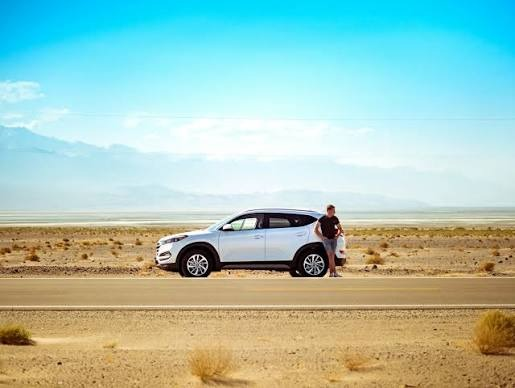car: (159, 205, 340, 280)
